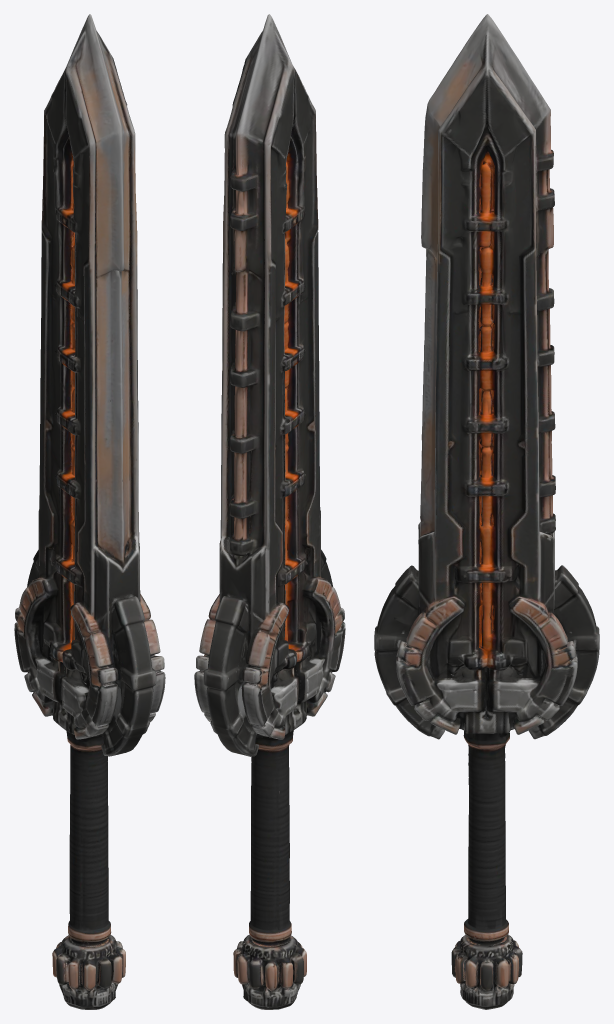
3 renders of one model, left to right at view 1: azimuth 30°, elevation 25°; view 2: azimuth 150°, elevation 25°; view 3: azimuth 270°, elevation 25°, orthographic.
Parts seen in each view (by area): view 1: tripo_node_7219f587-7e3d-47c9-84bb-5b9df0a4f990; view 2: tripo_node_7219f587-7e3d-47c9-84bb-5b9df0a4f990; view 3: tripo_node_7219f587-7e3d-47c9-84bb-5b9df0a4f990.
Boxes of the visible parts, left/top/right/bottom form: tripo_node_7219f587-7e3d-47c9-84bb-5b9df0a4f990: left=14, top=14, right=165, bottom=1009; tripo_node_7219f587-7e3d-47c9-84bb-5b9df0a4f990: left=194, top=14, right=345, bottom=1009; tripo_node_7219f587-7e3d-47c9-84bb-5b9df0a4f990: left=374, top=14, right=599, bottom=1009.
Bounding box in the file's own units: 0.0685 × 1 × 0.207.
1 material, 1 textured.
